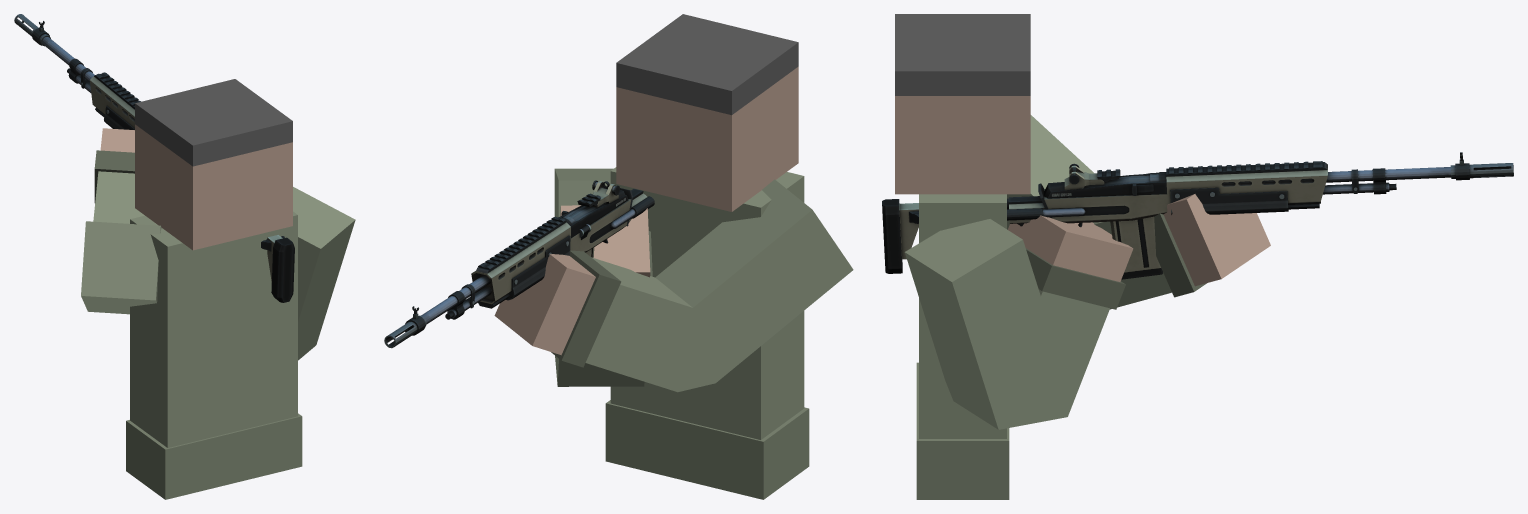
File: Semi Auto.gltf
The picture shows the model from 3 angles, left to right: view 1: azimuth 30°, elevation 25°; view 2: azimuth 150°, elevation 25°; view 3: azimuth 270°, elevation 25°; orthographic projection. The views are drawn at different scales.
Bounding box in the file's own units: 5.32 × 6.8 × 9.31.
2 materials, 1 textured.
